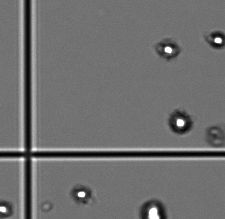Dead Cell: (207, 124, 223, 147)
Living Cell: (170, 109, 193, 134), (157, 38, 180, 58), (71, 182, 91, 203), (207, 29, 225, 50), (1, 200, 13, 216)
